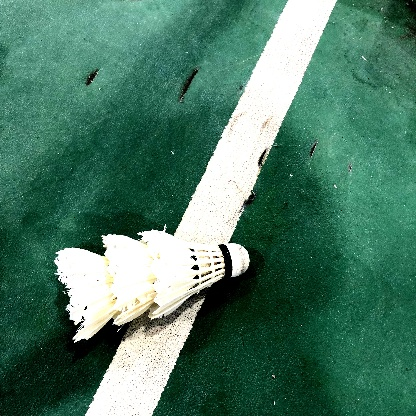ball_single: (54, 229, 249, 343)
